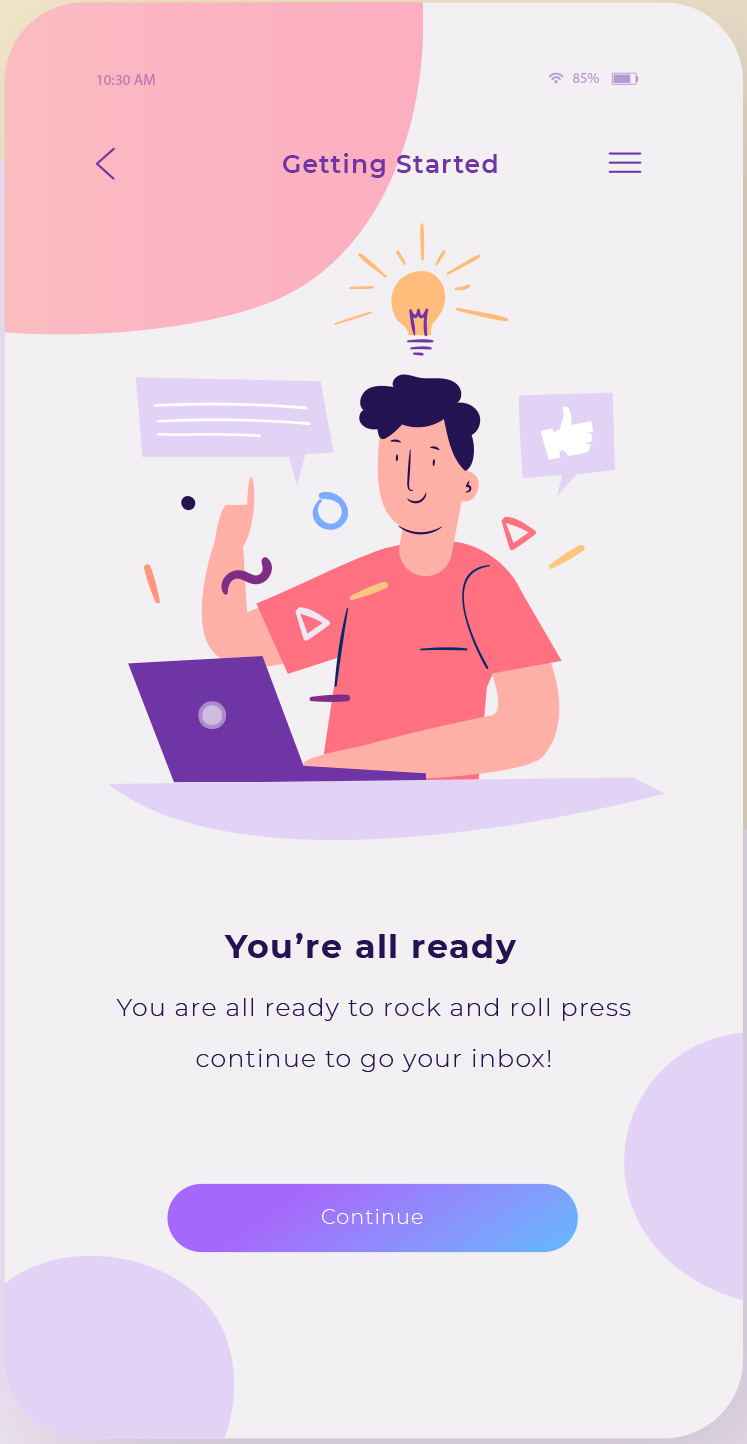Icon: (608, 151, 642, 175), (96, 147, 117, 182)
Image: (109, 219, 667, 842)
Text: (116, 997, 632, 1073), (224, 932, 518, 965), (282, 153, 499, 180)
TextButton: (167, 1183, 579, 1253)
UpperTaskBar: (97, 72, 640, 87)
